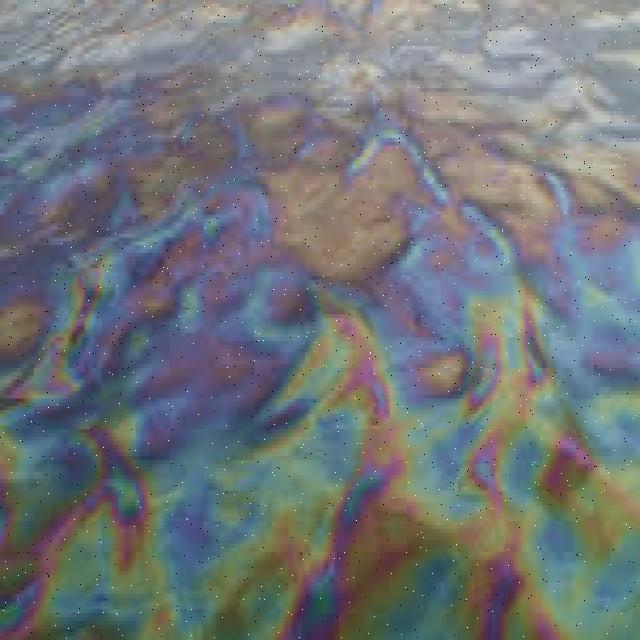oil: (3, 6, 640, 640)
